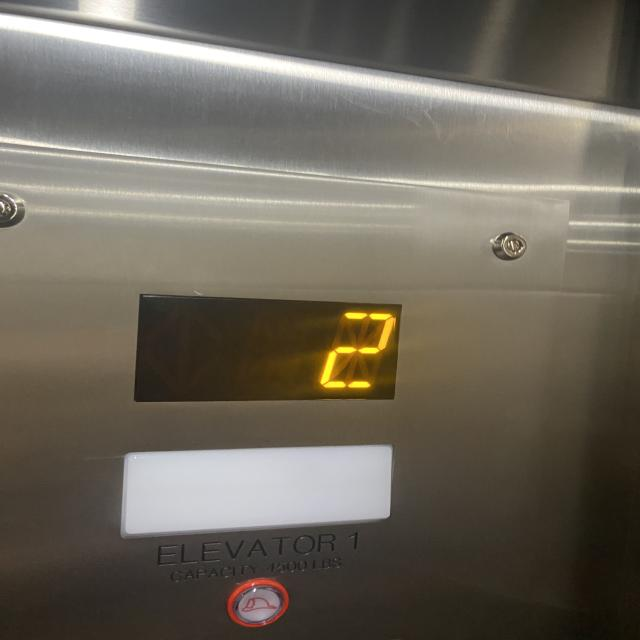box: (122, 294, 408, 399)
